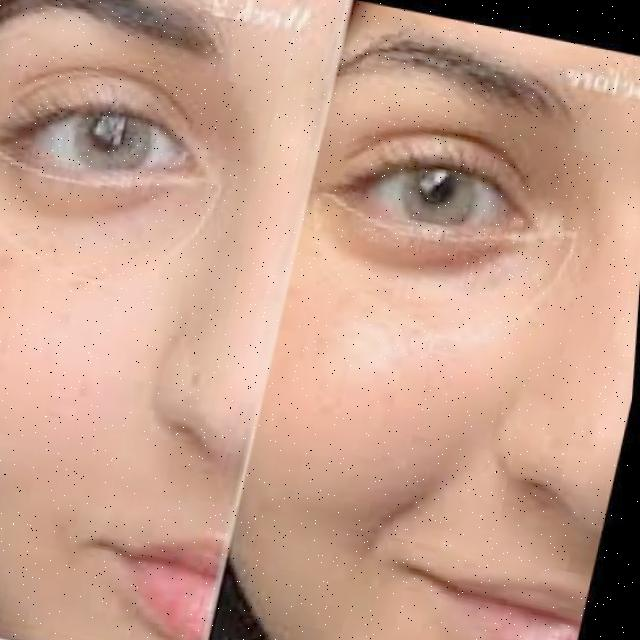puffy_eyes: (319, 195, 546, 316)
